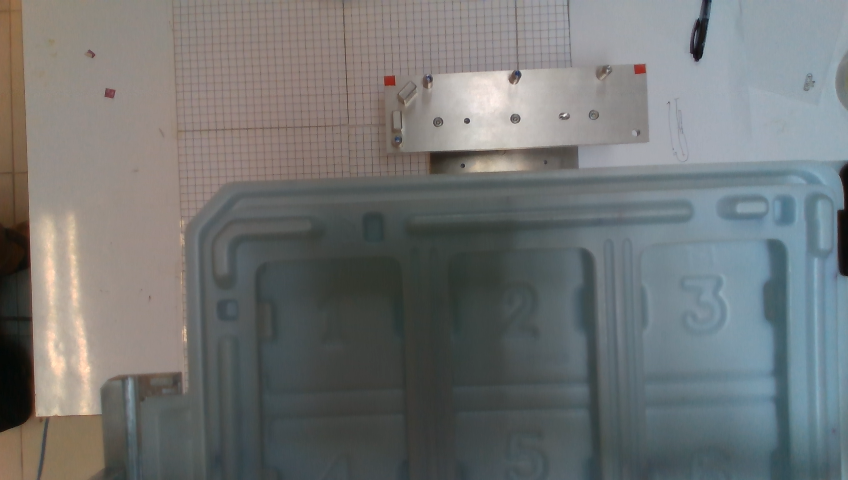red: (384, 76, 396, 86), (634, 64, 646, 74)
